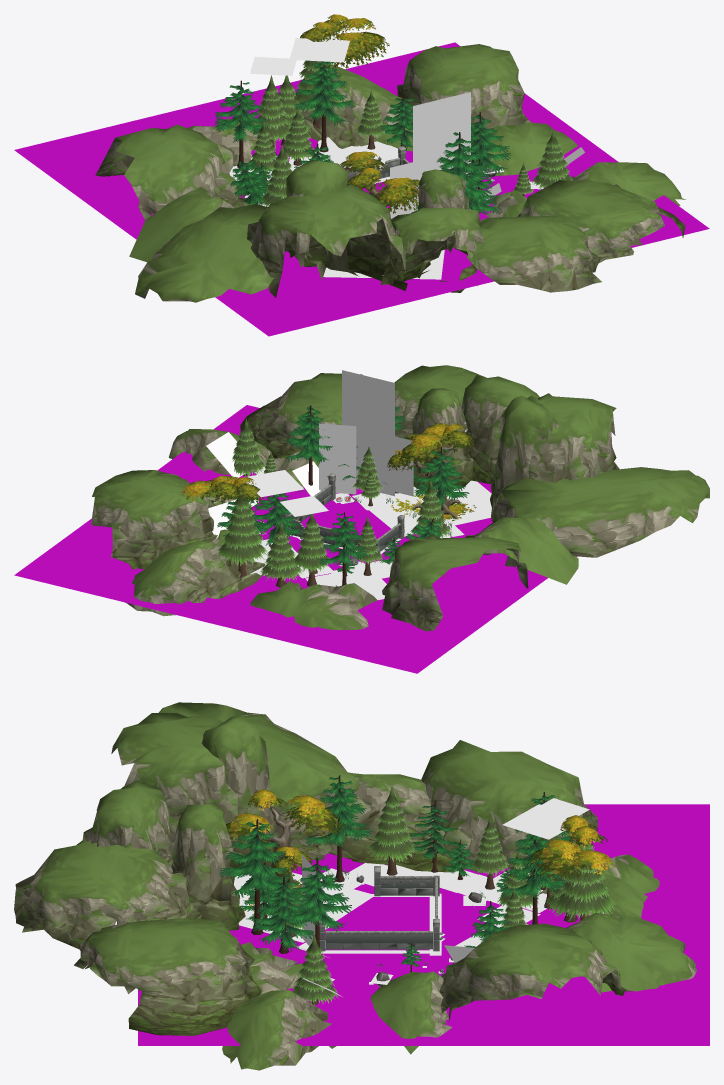
File: Forest 2.fbx
3 views of the same model, one above another, from view 1: azimuth 30°, elevation 25°; view 2: azimuth 150°, elevation 25°; view 3: azimuth 270°, elevation 25° (orthographic). The views are drawn at different scales.
Parts seen in each view (by area): view 1: Forest, Forest2; view 2: Forest, Forest2; view 3: Forest, Forest2.
Part boxes in pixels (left/top/right/bottom): Forest: left=95, top=28, right=685, bottom=302; Forest2: left=14, top=14, right=709, bottom=336; Forest: left=91, top=365, right=709, bottom=631; Forest2: left=14, top=370, right=577, bottom=673; Forest: left=14, top=702, right=696, bottom=1070; Forest2: left=138, top=789, right=709, bottom=1045.
Size of the model in its own units: 90.02 by 93.24 by 22.43.
